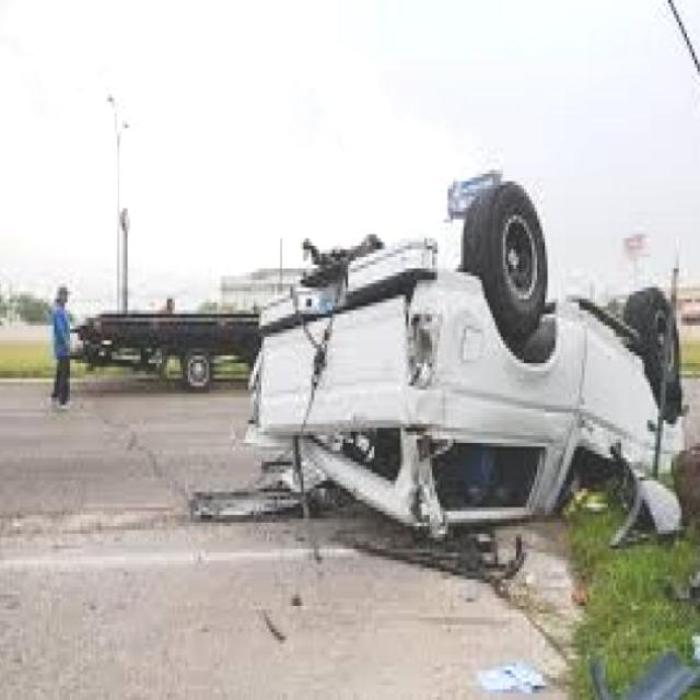Accident: (223, 174, 697, 575)
